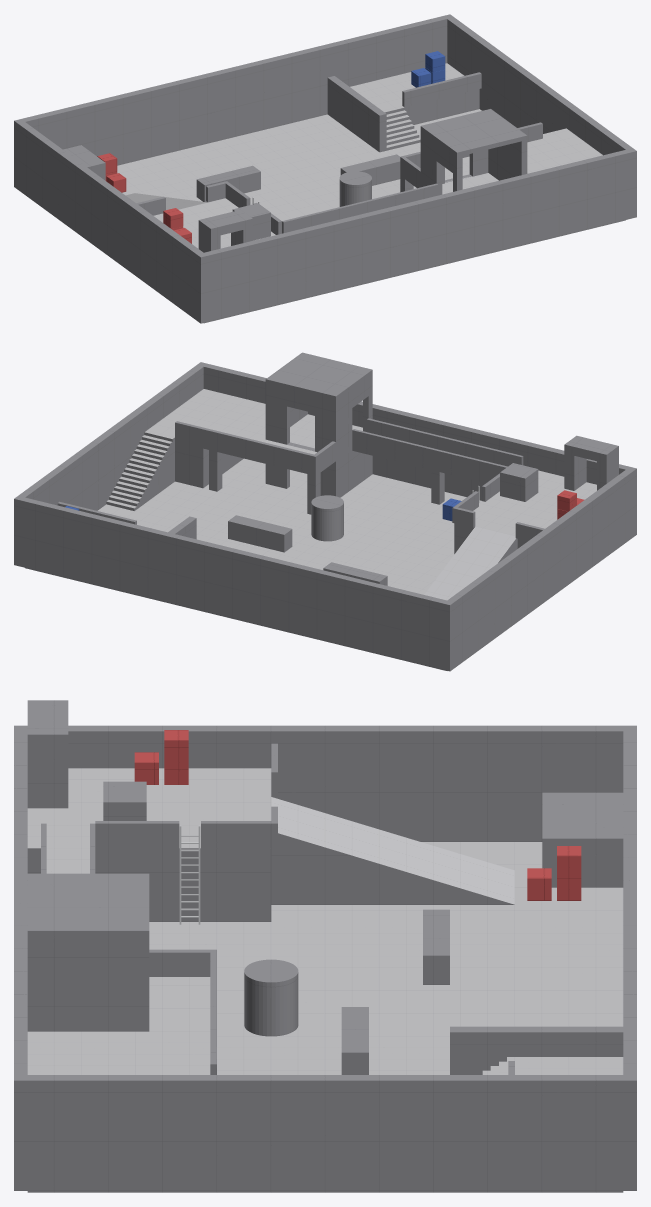
Rendered from test-level.glb.
3 views of the same model, one above another, from view 1: azimuth 30°, elevation 25°; view 2: azimuth 150°, elevation 25°; view 3: azimuth 270°, elevation 25° (orthographic). The views are drawn at different scales.
Visible parts, largest first — view 1: Structure, Walkable, Crates_Red, Crates_Blue; view 2: Structure, Walkable, Crates_Red; view 3: Structure, Walkable, Crates_Red, Ladder.
Boxes of the visible parts, <box> form: Structure: <box>14,14,636,323</box>; Walkable: <box>117,63,602,248</box>; Crates_Red: <box>97,153,191,243</box>; Crates_Blue: <box>411,51,445,87</box>; Structure: <box>14,352,636,671</box>; Walkable: <box>97,389,596,600</box>; Crates_Red: <box>557,490,584,519</box>; Structure: <box>14,700,636,1192</box>; Walkable: <box>27,768,623,1074</box>; Crates_Red: <box>134,730,581,900</box>; Ladder: <box>179,825,200,924</box>.
Size of the model in its own units: 31 by 7.4 by 23.
5 materials, 4 textured.
